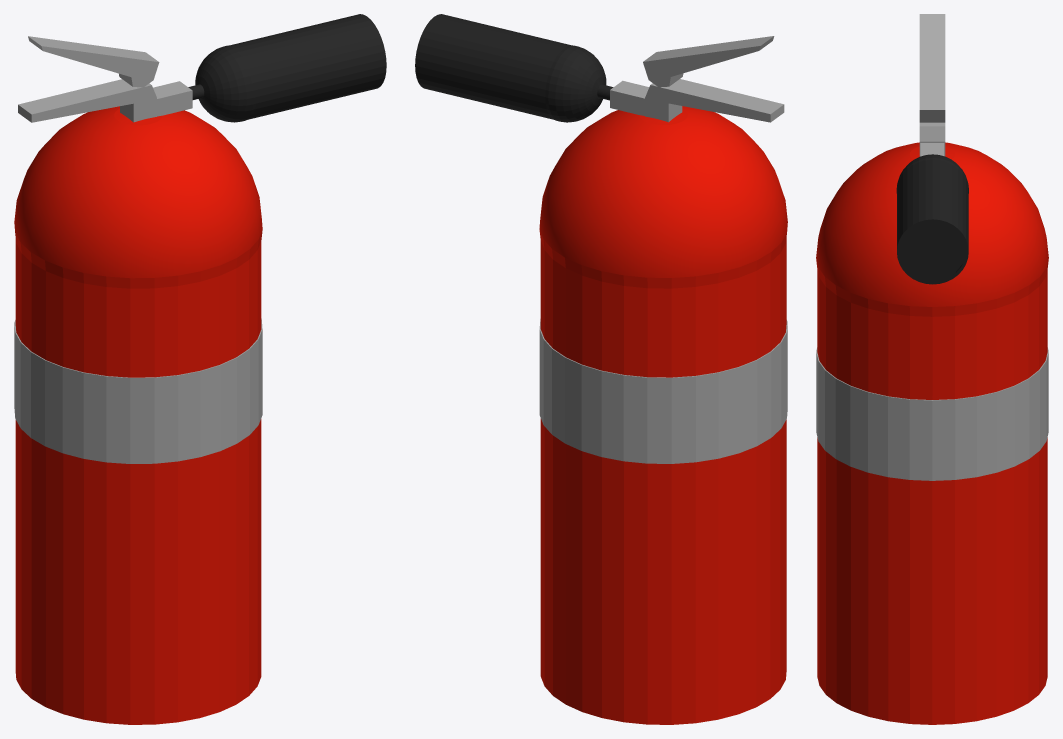
File: fire_extinquisher_2.fbx
3 views of the same model, side by side, from view 1: azimuth 30°, elevation 25°; view 2: azimuth 150°, elevation 25°; view 3: azimuth 270°, elevation 25° (orthographic). The views are drawn at different scales.
Visible parts, largest first — view 1: Bottle, MetalRing, Spuit, HandleBot, HandleTop, Cube; view 2: Bottle, MetalRing, Spuit, HandleBot, HandleTop, Cube; view 3: Bottle, MetalRing, Spuit, HandleTop, HandleBot.
Boxes of the visible parts, x1,y1,x2,y2 form: Bottle: (14, 106, 262, 724); MetalRing: (14, 318, 262, 463); Spuit: (188, 14, 386, 122); HandleBot: (18, 79, 156, 122); HandleTop: (28, 36, 159, 87); Cube: (153, 81, 192, 116); Bottle: (539, 106, 787, 724); MetalRing: (539, 319, 787, 463); Spuit: (415, 14, 613, 122); HandleBot: (645, 79, 784, 122); HandleTop: (643, 36, 774, 87); Cube: (610, 80, 648, 115); Bottle: (816, 142, 1048, 724); MetalRing: (816, 347, 1048, 480); Spuit: (896, 154, 968, 284); HandleTop: (919, 14, 945, 122); HandleBot: (919, 122, 945, 156).
Size of the model in its own units: 26.21 by 48 by 16.47.
